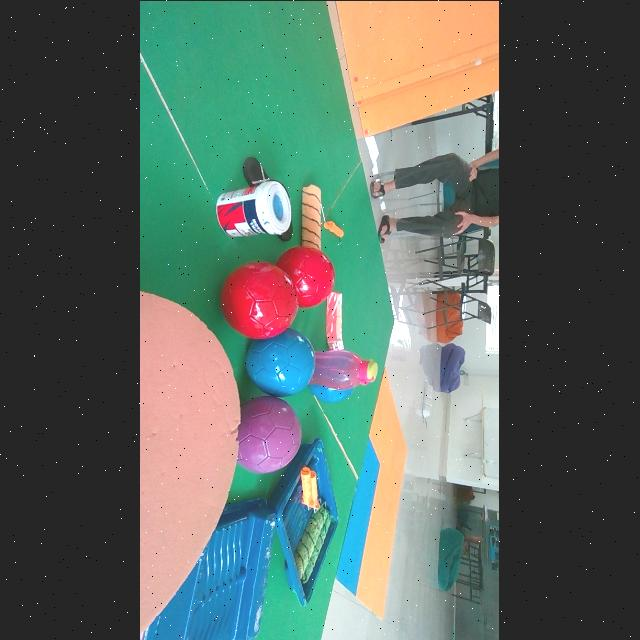B: (246, 328, 316, 396), (310, 383, 354, 403)
P: (238, 395, 302, 472)
R: (221, 261, 299, 338), (277, 245, 336, 307)
